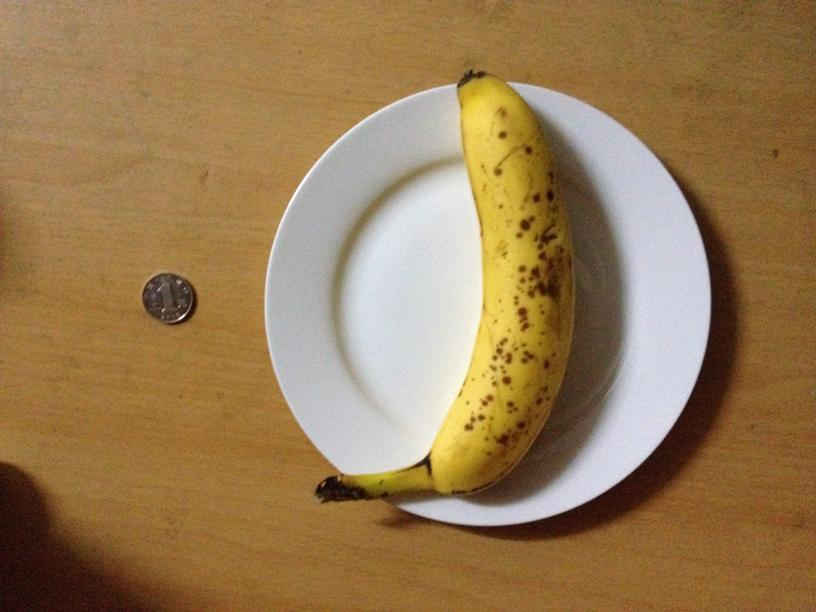banana: (409, 67, 578, 494)
coin: (140, 270, 198, 326)
